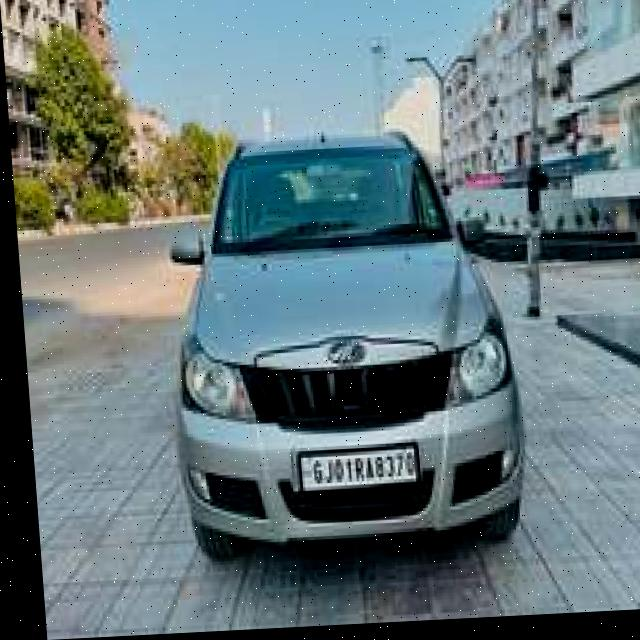plate: (287, 445, 416, 500)
